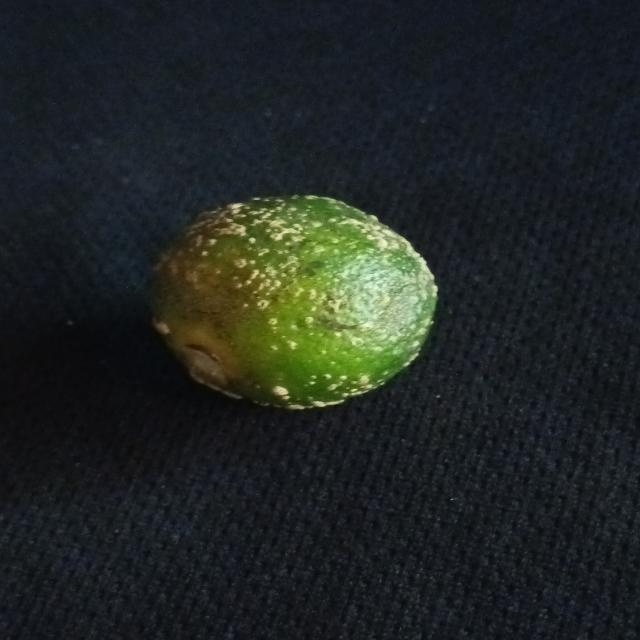scab: (141, 188, 446, 411)
